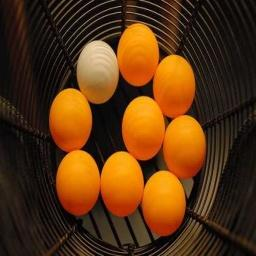orange: (100, 150, 144, 217), (56, 150, 101, 215), (121, 95, 165, 160), (163, 115, 208, 178), (146, 169, 186, 238), (49, 89, 93, 151), (155, 55, 195, 118), (119, 23, 158, 87)
white: (76, 39, 118, 103)
